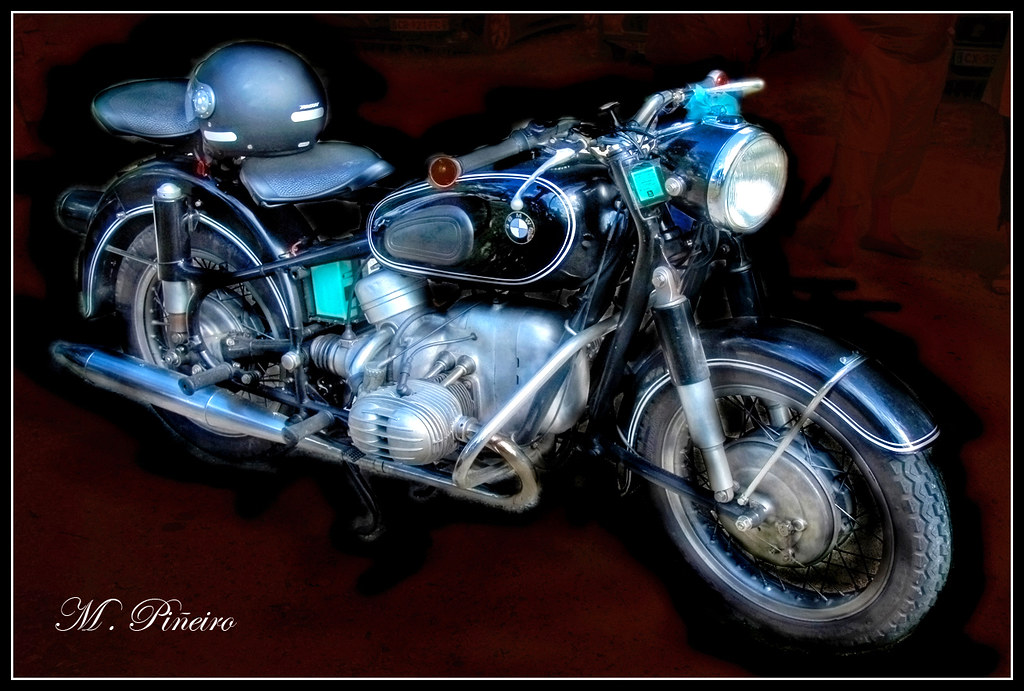motor bike: (53, 45, 972, 638)
